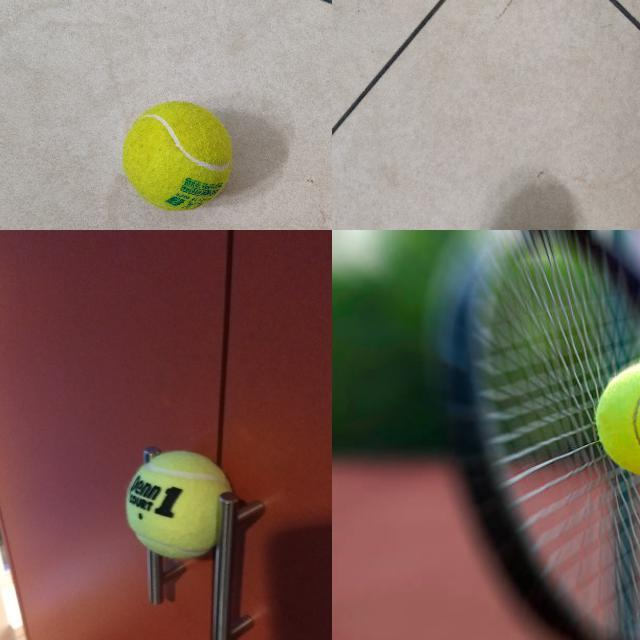tennis-ball: (123, 102, 232, 213), (125, 450, 216, 559), (595, 358, 639, 478)
